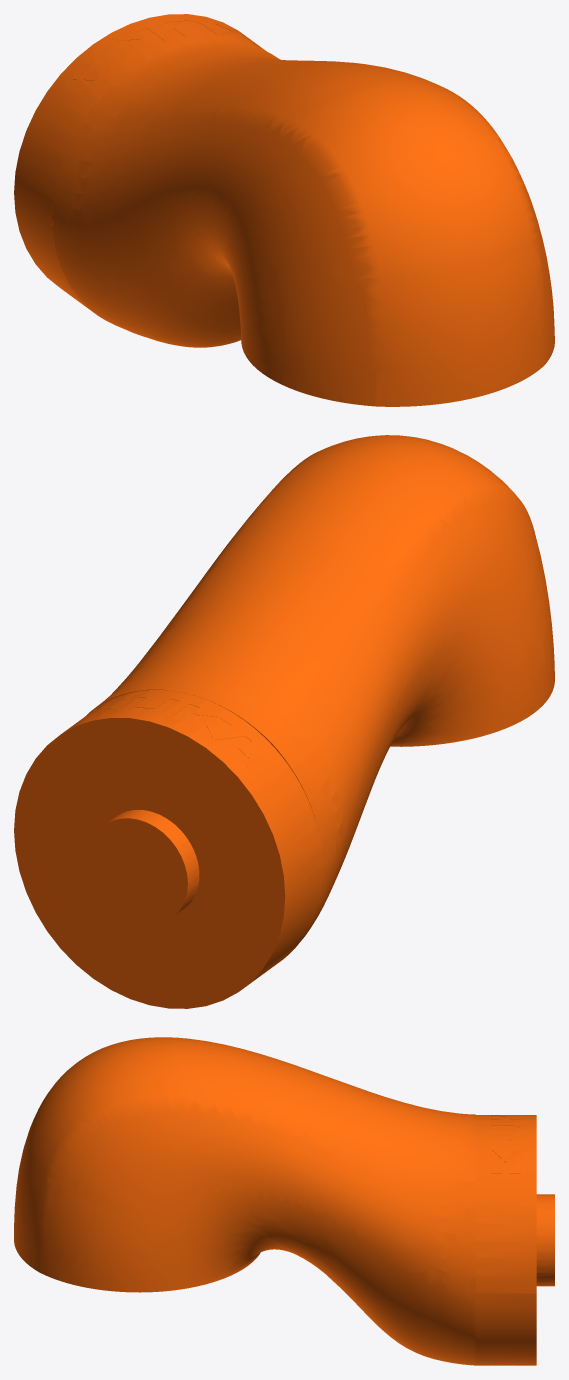
The picture shows the model from 3 angles, top to bottom: view 1: azimuth 30°, elevation 25°; view 2: azimuth 150°, elevation 25°; view 3: azimuth 270°, elevation 25°; orthographic projection. The views are drawn at different scales.
Visible parts, largest first — view 1: link_3; view 2: link_3; view 3: link_3.
Boxes of the visible parts, x1=… form: link_3: x1=14, y1=14, x2=554, y2=406; link_3: x1=14, y1=435, x2=554, y2=1008; link_3: x1=14, y1=1037, x2=554, y2=1365.
Bounding box in the file's own units: 0.136 × 0.1826 × 0.2935.
